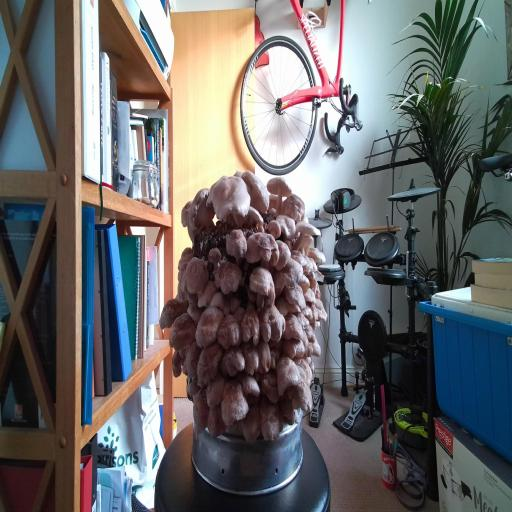Shiitake Mushroom: (223, 156, 282, 221), (204, 165, 254, 230), (178, 184, 222, 245), (262, 251, 315, 300), (189, 296, 228, 358), (243, 258, 283, 318), (255, 164, 300, 217), (190, 332, 227, 396), (280, 369, 322, 425), (148, 287, 195, 335), (237, 228, 287, 272), (280, 210, 329, 253), (177, 249, 213, 304), (216, 373, 251, 429), (217, 220, 256, 269), (270, 348, 304, 397), (165, 308, 200, 354), (283, 245, 325, 281), (215, 340, 249, 384), (269, 291, 307, 325), (191, 274, 222, 314), (257, 303, 287, 344), (169, 279, 204, 314), (201, 371, 231, 411), (214, 311, 243, 352), (258, 397, 284, 442), (279, 188, 309, 225), (275, 388, 300, 431), (234, 371, 267, 401), (191, 386, 212, 432), (214, 261, 242, 295), (297, 296, 324, 331), (204, 402, 228, 441), (171, 242, 199, 275), (178, 370, 205, 404), (294, 355, 318, 393), (240, 403, 262, 444), (301, 263, 330, 294), (182, 338, 203, 380), (258, 369, 280, 408), (302, 241, 332, 269), (181, 296, 209, 326), (260, 214, 289, 242), (240, 308, 261, 346), (283, 279, 308, 310), (167, 347, 189, 381), (274, 212, 298, 242), (241, 340, 260, 377), (280, 336, 308, 361), (310, 294, 331, 326), (203, 242, 226, 271), (286, 245, 312, 270), (283, 313, 305, 342), (296, 229, 316, 258), (292, 305, 313, 332), (275, 239, 292, 272), (257, 338, 272, 374), (305, 334, 325, 361), (178, 195, 193, 228), (243, 205, 264, 228), (295, 271, 315, 295), (266, 343, 283, 371), (209, 289, 226, 312), (301, 329, 314, 359), (302, 322, 318, 344), (304, 286, 317, 304), (228, 296, 241, 314)
